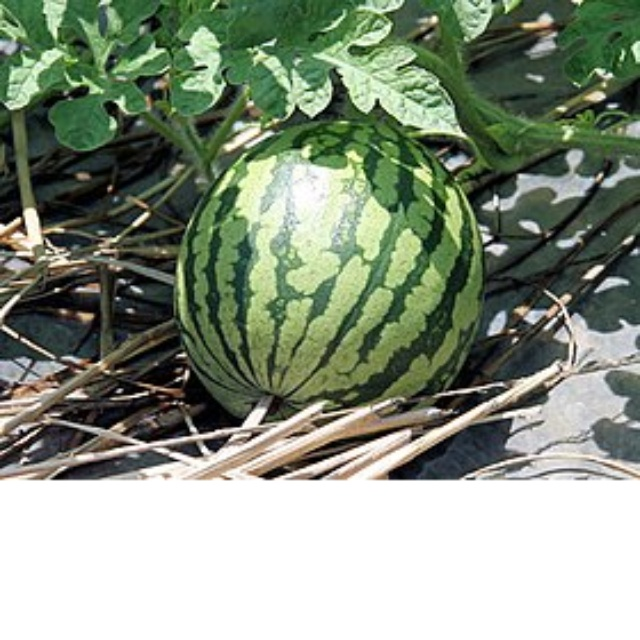dua_hau: (177, 120, 485, 418)
